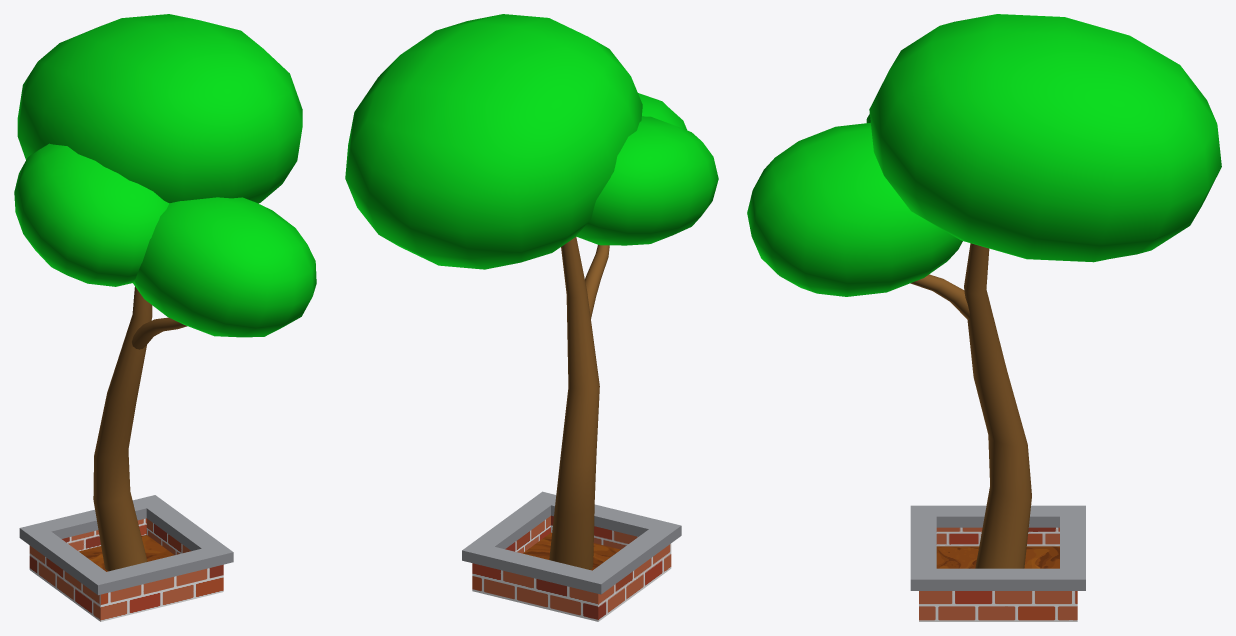
The model's file is Árvore-Ambulancia.fbx.
3 views of the same model, side by side, from view 1: azimuth 30°, elevation 25°; view 2: azimuth 150°, elevation 25°; view 3: azimuth 270°, elevation 25° (orthographic). The views are drawn at different scales.
Parts seen in each view (by area): view 1: Cube.001, Cube.002, Cube.003, Cylinder, Cube.005, Cube, Cube.004, Cylinder.001; view 2: Cube.001, Cube.003, Cylinder, Cube.005, Cube, Cylinder.001, Cube.004, Cube.002; view 3: Cube.001, Cube.002, Cylinder, Cube.005, Cube, Cube.004, Cylinder.001.
Boxes of the visible parts, left/top/right/bottom form: Cube.001: left=17, top=14, right=302, bottom=203; Cube.002: left=133, top=197, right=316, bottom=337; Cube.003: left=14, top=143, right=169, bottom=286; Cylinder: left=93, top=286, right=152, bottom=571; Cube.005: left=19, top=495, right=233, bottom=595; Cube: left=29, top=518, right=223, bottom=621; Cube.004: left=79, top=535, right=174, bottom=571; Cylinder.001: left=132, top=317, right=187, bottom=349; Cube.001: left=345, top=14, right=642, bottom=269; Cube.003: left=576, top=116, right=718, bottom=245; Cylinder: left=549, top=237, right=599, bottom=569; Cube.005: left=462, top=491, right=681, bottom=594; Cube: left=472, top=515, right=671, bottom=621; Cylinder.001: left=585, top=245, right=609, bottom=318; Cube.004: left=523, top=532, right=620, bottom=570; Cube.002: left=638, top=93, right=686, bottom=129; Cube.001: left=869, top=14, right=1221, bottom=262; Cube.002: left=747, top=123, right=962, bottom=296; Cylinder: left=964, top=243, right=1031, bottom=568; Cube.005: left=910, top=505, right=1085, bottom=590; Cube: left=919, top=527, right=1077, bottom=621; Cube.004: left=936, top=546, right=1059, bottom=568; Cylinder.001: left=910, top=274, right=969, bottom=319.
Size of the model in its own units: 464 by 815 by 598.
